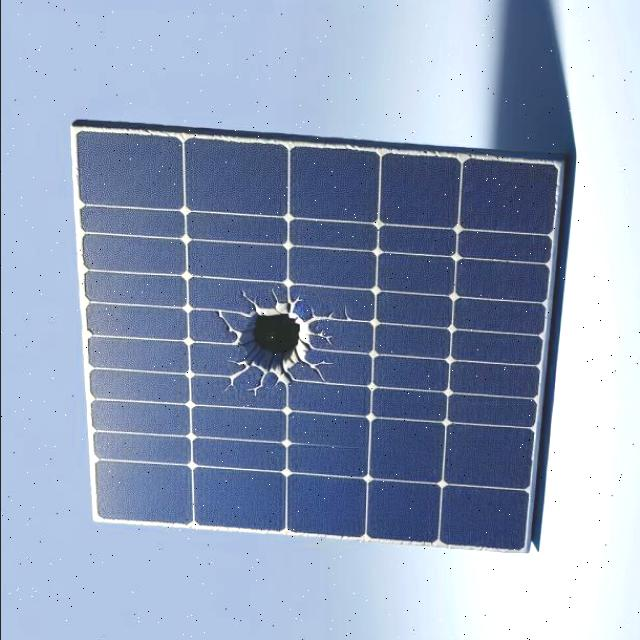Anomaly Solar Panel: (42, 128, 557, 554)
Structural Damage: (227, 293, 319, 394), (293, 352, 332, 386), (214, 364, 252, 396), (208, 308, 241, 343), (241, 371, 273, 403), (307, 329, 335, 348), (266, 285, 277, 304)
